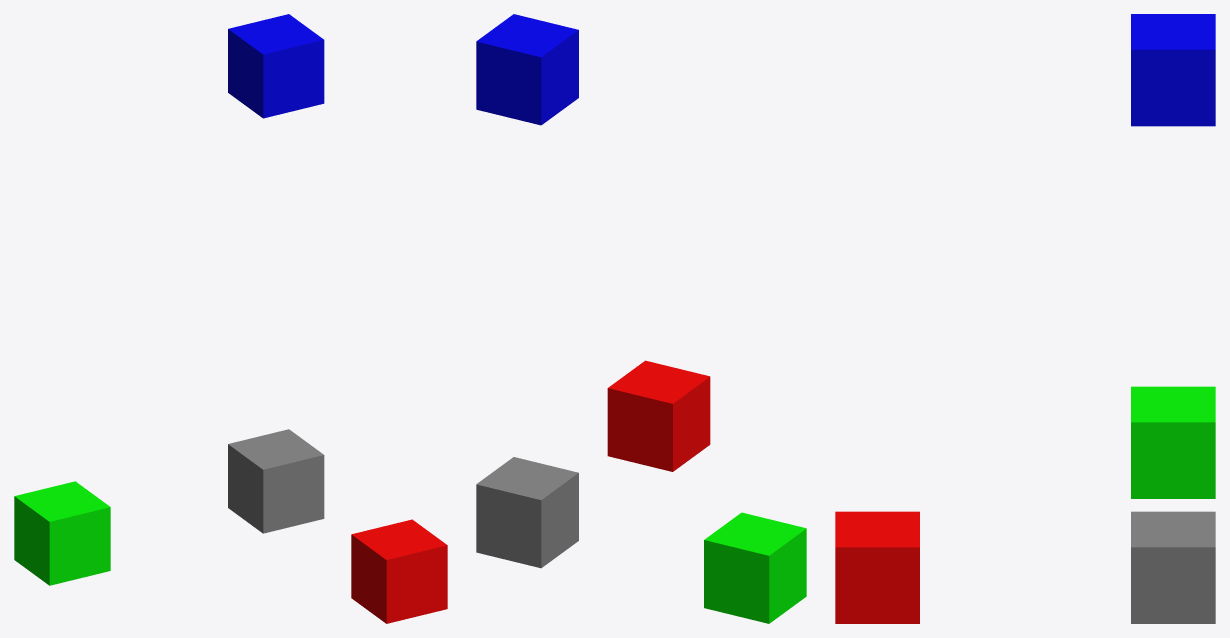
File: calibration_reperes.glb
3 views of the same model, side by side, from view 1: azimuth 30°, elevation 25°; view 2: azimuth 150°, elevation 25°; view 3: azimuth 270°, elevation 25° (orthographic). The views are drawn at different scales.
Visible parts, largest first — view 1: piece_3, piece_1, piece_2, piece_0; view 2: piece_0, piece_3, piece_1, piece_2; view 3: piece_0, piece_1, piece_2, piece_3.
Part boxes in pixels (x1,y1,x2,y2): piece_3: (228, 429, 324, 533); piece_1: (14, 481, 110, 585); piece_2: (228, 14, 324, 118); piece_0: (351, 519, 447, 623); piece_0: (607, 360, 710, 471); piece_3: (476, 457, 578, 568); piece_1: (704, 512, 806, 623); piece_2: (476, 14, 578, 125); piece_0: (835, 511, 919, 623); piece_1: (1131, 386, 1215, 498); piece_2: (1131, 14, 1215, 126); piece_3: (1131, 511, 1215, 623).
Size of the model in its own units: 0.45 by 0.75 by 0.45.
